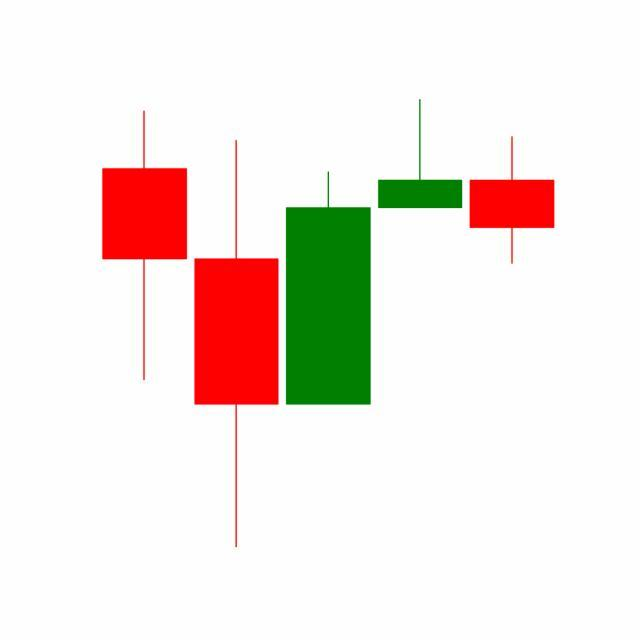Gravestone Doji: (374, 98, 468, 210)
